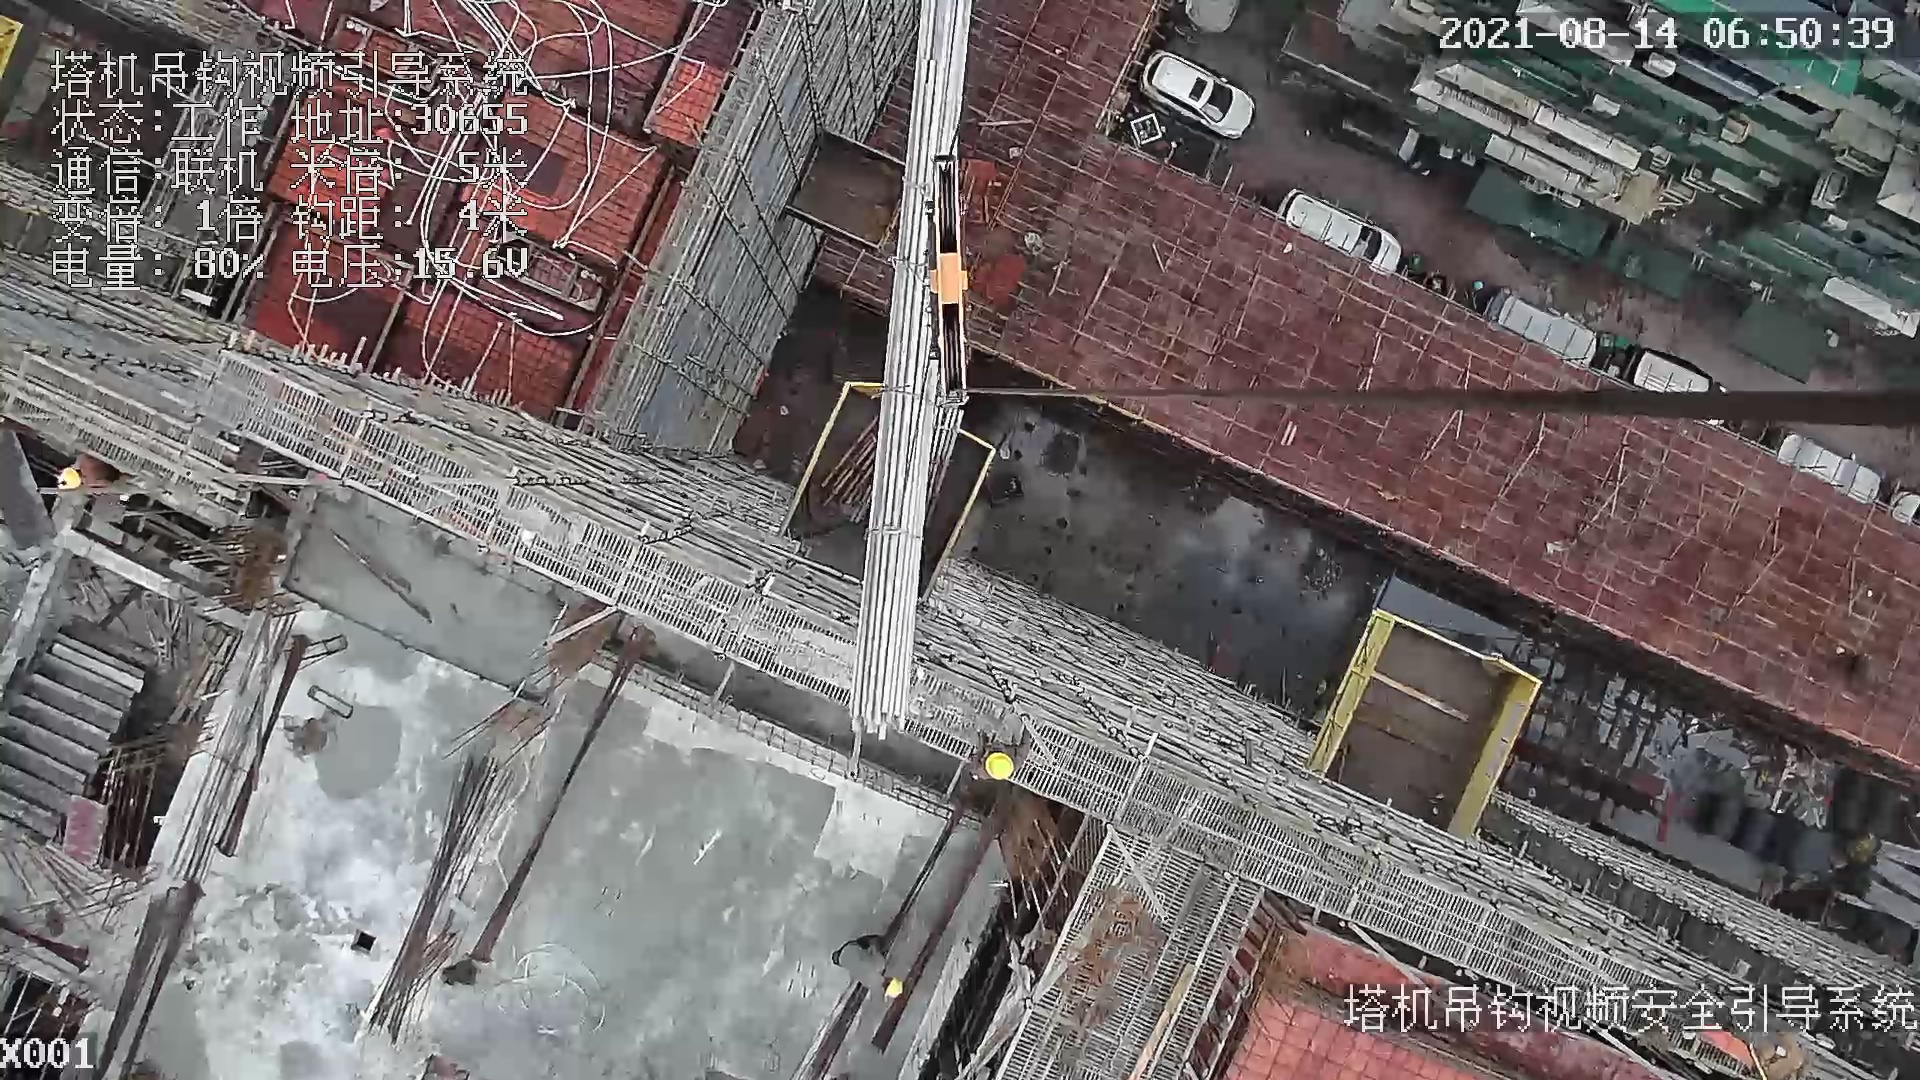helmet: (977, 746, 1022, 784), (56, 465, 84, 498), (880, 974, 908, 1001)
hook: (903, 156, 976, 408)
person: (832, 931, 915, 1004), (973, 715, 1035, 792)
